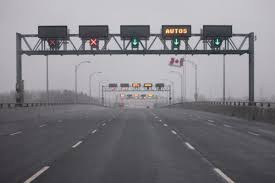strada: (5, 94, 275, 182)
